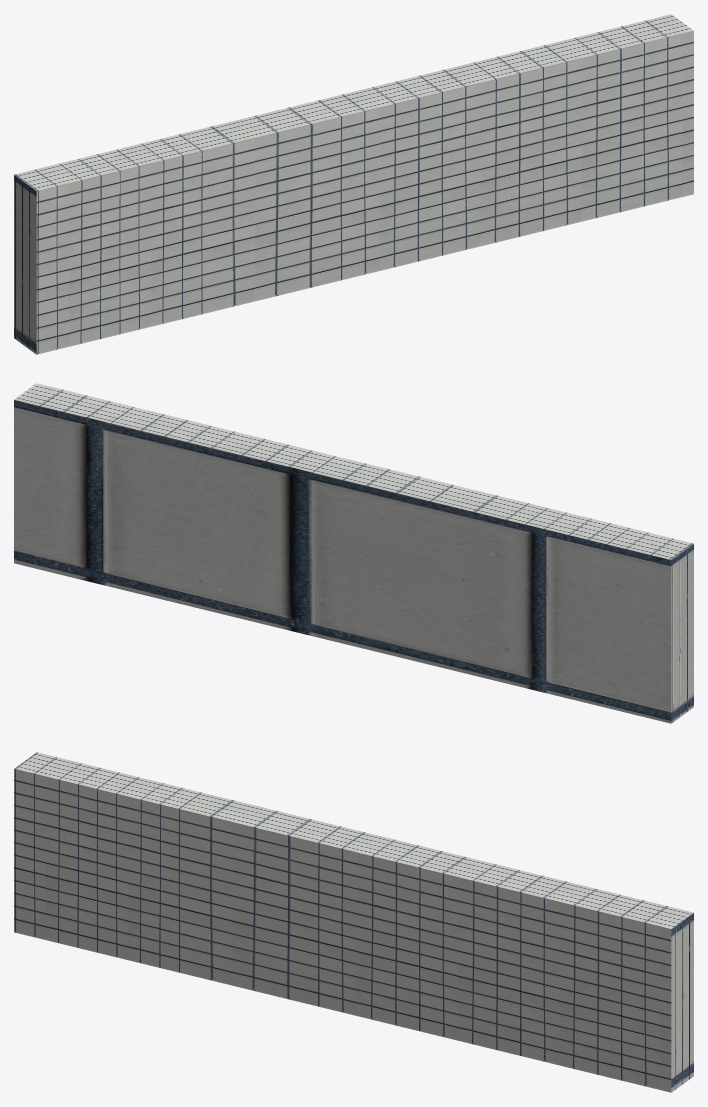
Rendered from wall.obj.
3 views of the same model, one above another, from view 1: azimuth 30°, elevation 25°; view 2: azimuth 150°, elevation 25°; view 3: azimuth 330°, elevation 25° (orthographic).
Visible parts, largest first — view 1: Cube.001_Cube.003; view 2: Cube.001_Cube.003; view 3: Cube.001_Cube.003.
Boxes of the visible parts, left/top/right/bottom form: Cube.001_Cube.003: left=14, top=14, right=693, bottom=354; Cube.001_Cube.003: left=14, top=383, right=693, bottom=723; Cube.001_Cube.003: left=14, top=752, right=693, bottom=1092.
Size of the model in its own units: 23.06 by 5.49 by 1.37.
